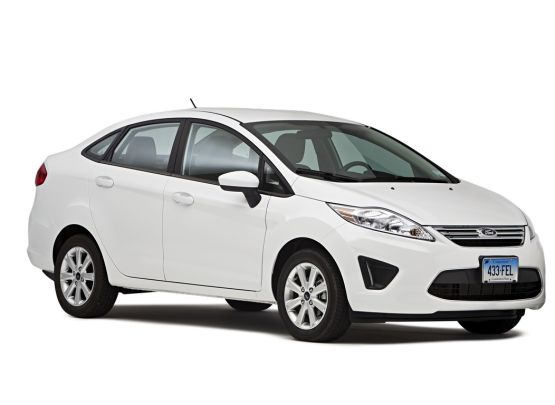sedan: (27, 98, 547, 339)
